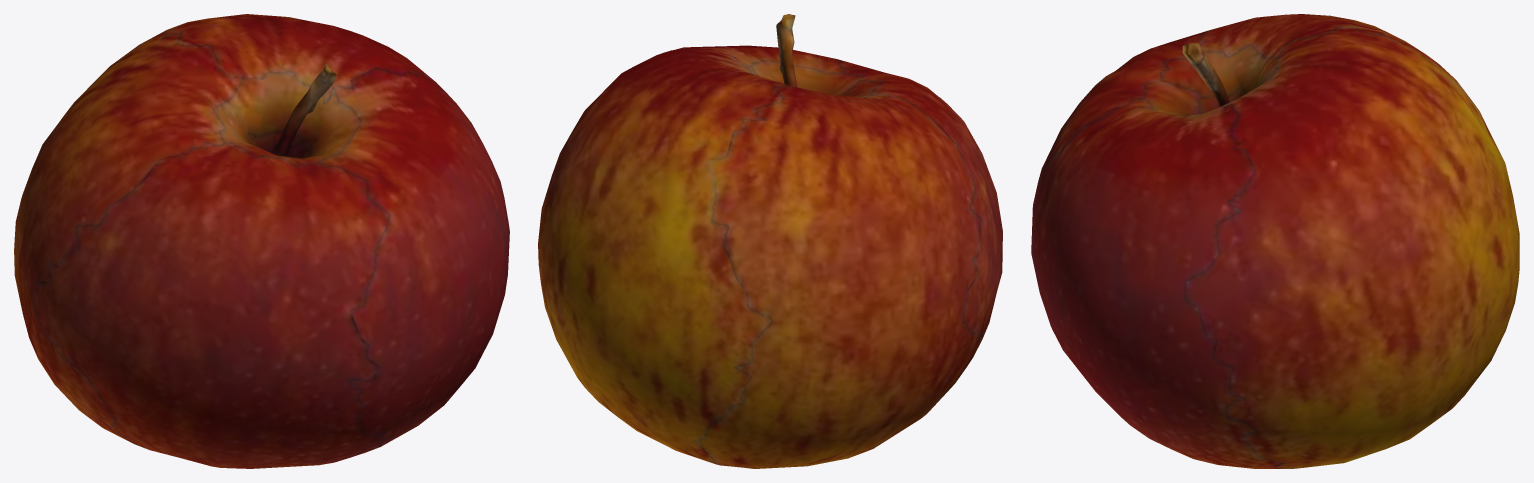
Rendered from food_apple_01_lod1.397a1871ab.glb.
3 renders of one model, left to right at view 1: azimuth 30°, elevation 25°; view 2: azimuth 150°, elevation 25°; view 3: azimuth 270°, elevation 25°, orthographic. The views are drawn at different scales.
Visible parts, largest first — view 1: food_apple_01; view 2: food_apple_01; view 3: food_apple_01.
Boxes of the visible parts, <box> form: food_apple_01: <box>14,14,509,468</box>; food_apple_01: <box>538,14,1002,468</box>; food_apple_01: <box>1031,14,1519,468</box>.
Bounding box in the file's own units: 0.0972 × 0.0854 × 0.0959.
1 material, 1 textured.
